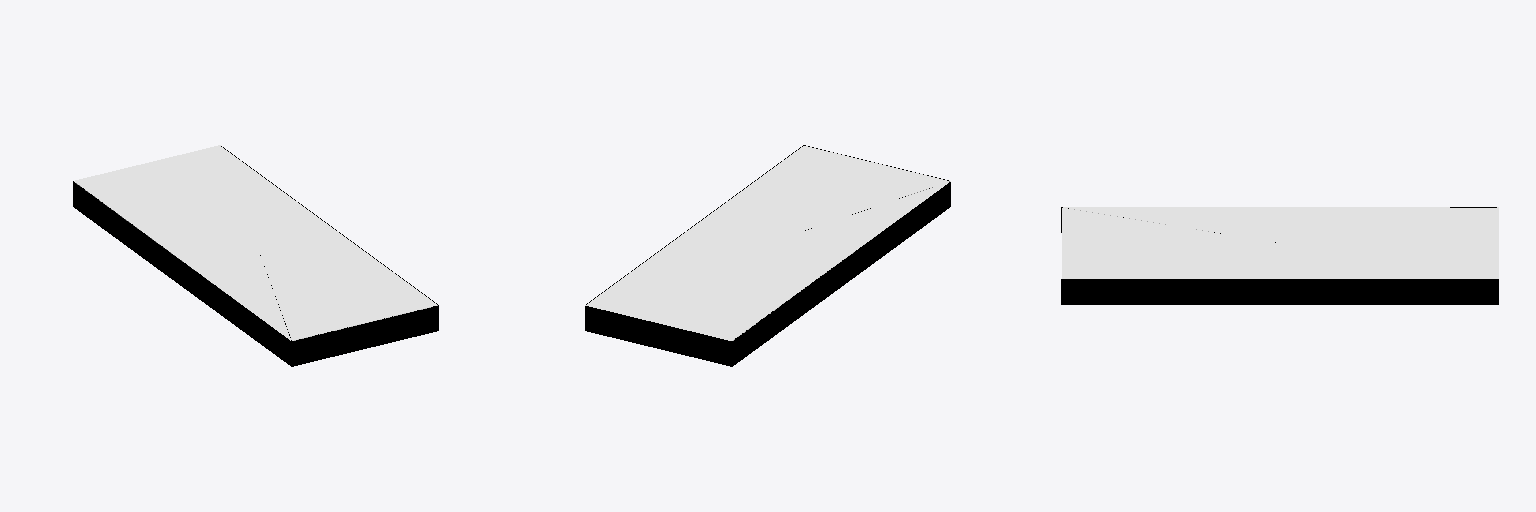
The model's file is storageplatform.obj.
3 views of the same model, side by side, from view 1: azimuth 30°, elevation 25°; view 2: azimuth 150°, elevation 25°; view 3: azimuth 270°, elevation 25° (orthographic).
Parts seen in each view (by area): view 1: polySurface2; view 2: polySurface2; view 3: polySurface2.
Boxes of the visible parts, <box> form: polySurface2: <box>73,145,438,366</box>; polySurface2: <box>585,145,950,366</box>; polySurface2: <box>1061,207,1498,304</box>.
Bounding box in the file's own units: 6.06 × 1 × 15.56.